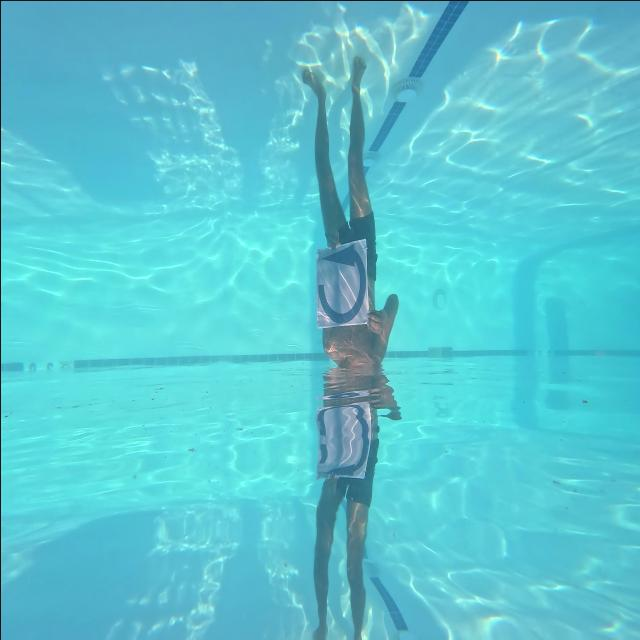blue_side: (312, 238, 368, 324)
